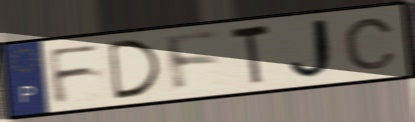C: (341, 16, 399, 72)
D: (105, 37, 164, 101)
F: (162, 29, 223, 96), (45, 41, 105, 107)
J: (287, 16, 341, 83)
T: (228, 22, 273, 89)
